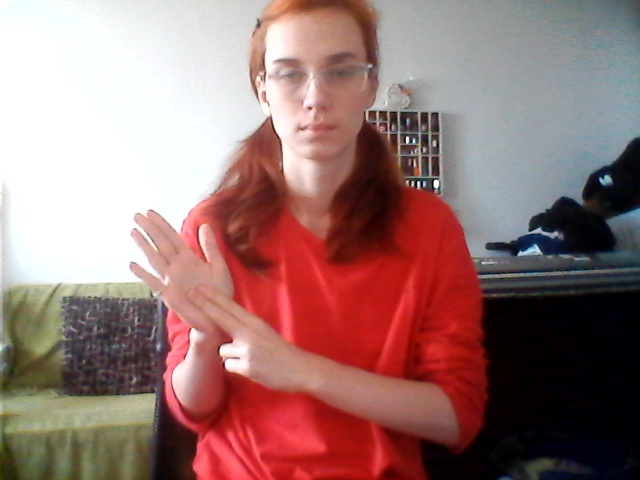n: (118, 199, 283, 392)
